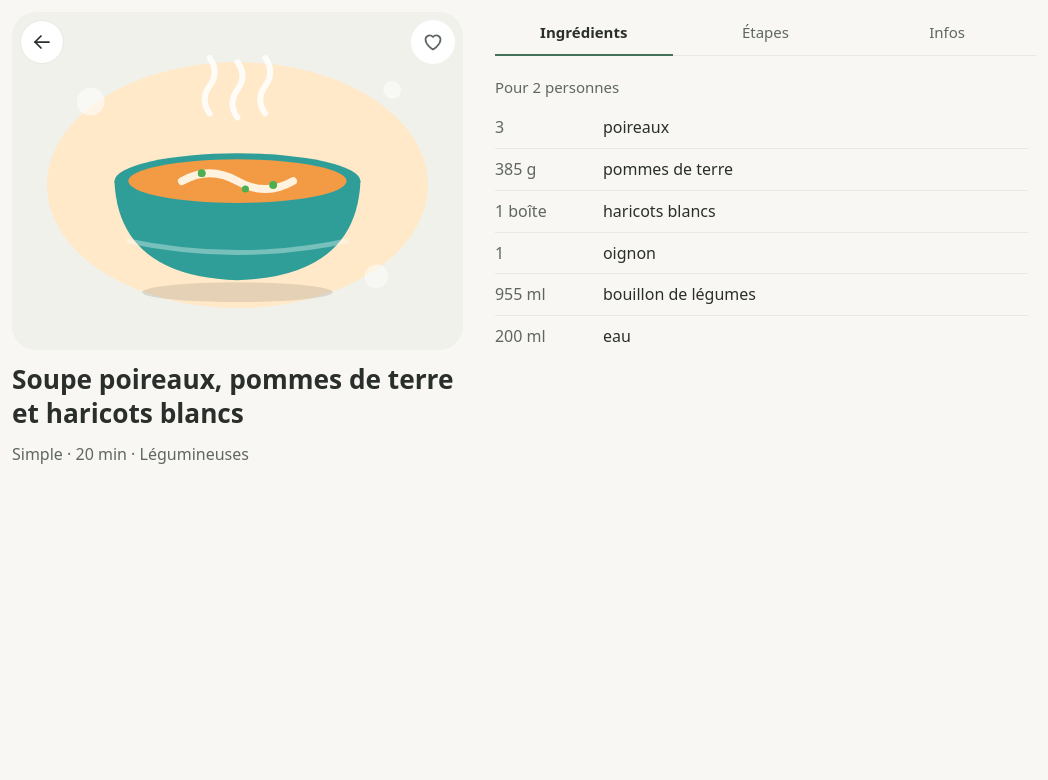
Test case: <RecipePage /> › détail d’un plat du menu : portions, étapes, allergènes, kcal repliées, favori
The width and height of the screenshot is (1048, 780).
Expected: the heading "Soupe poireaux, pommes de terre et haricots blancs" is shown, [12,362,463,430]
Expected: the text "Pour 2 personnes" is shown, [495,77,619,97]
Click the tab "Étapes": (765, 34) [677,12,854,56]
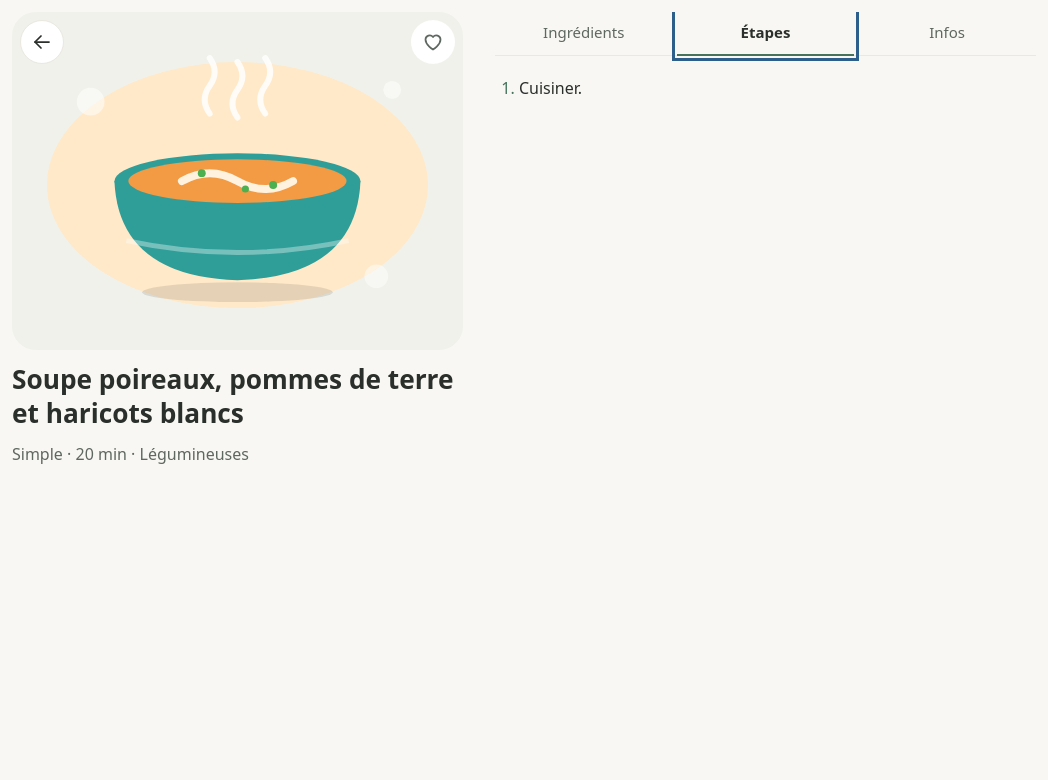
Result: the number of list items is 1 at [519,77,582,99]
Click the tab "Infos": (947, 34) [858,12,1036,56]
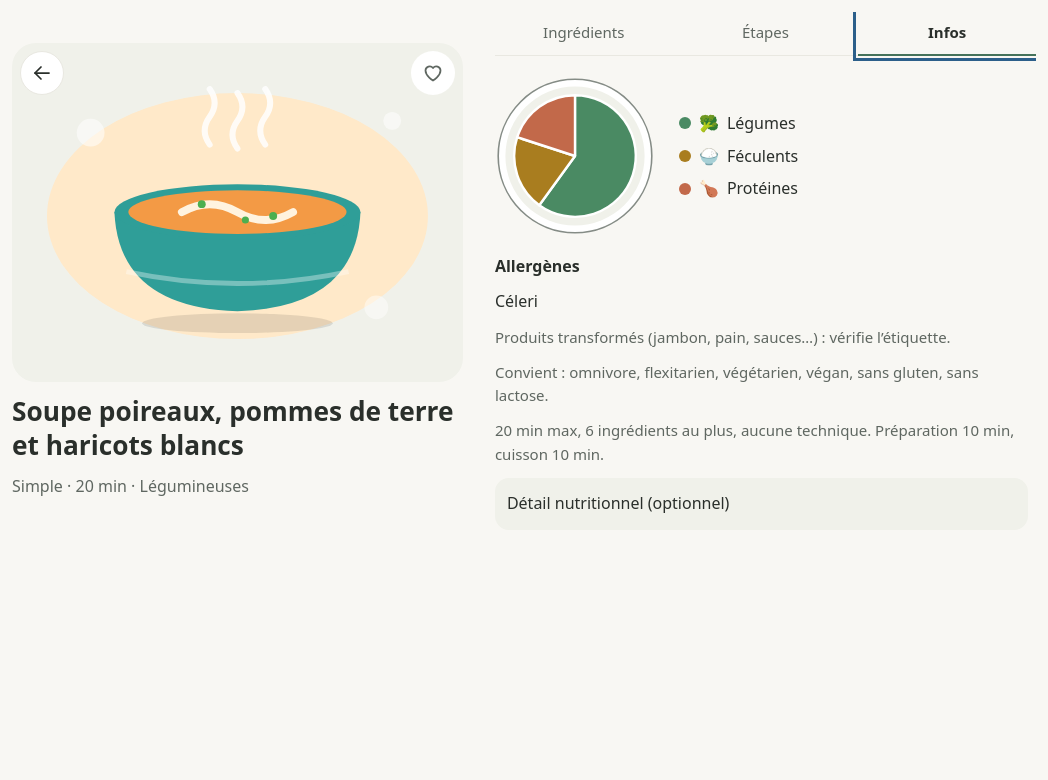
Result: the list item "Légumes" is shown at [727,112,796,134]
Result: the heading "Allergènes" is shown at [495,255,580,277]
Result: the text "Produits transformés (jambon, pain, sauces…) : vérifie l’étiquette." is shown at [495,326,1028,349]
Click the button named "Ajouter aux favoris": (433, 73) [411,51,455,95]
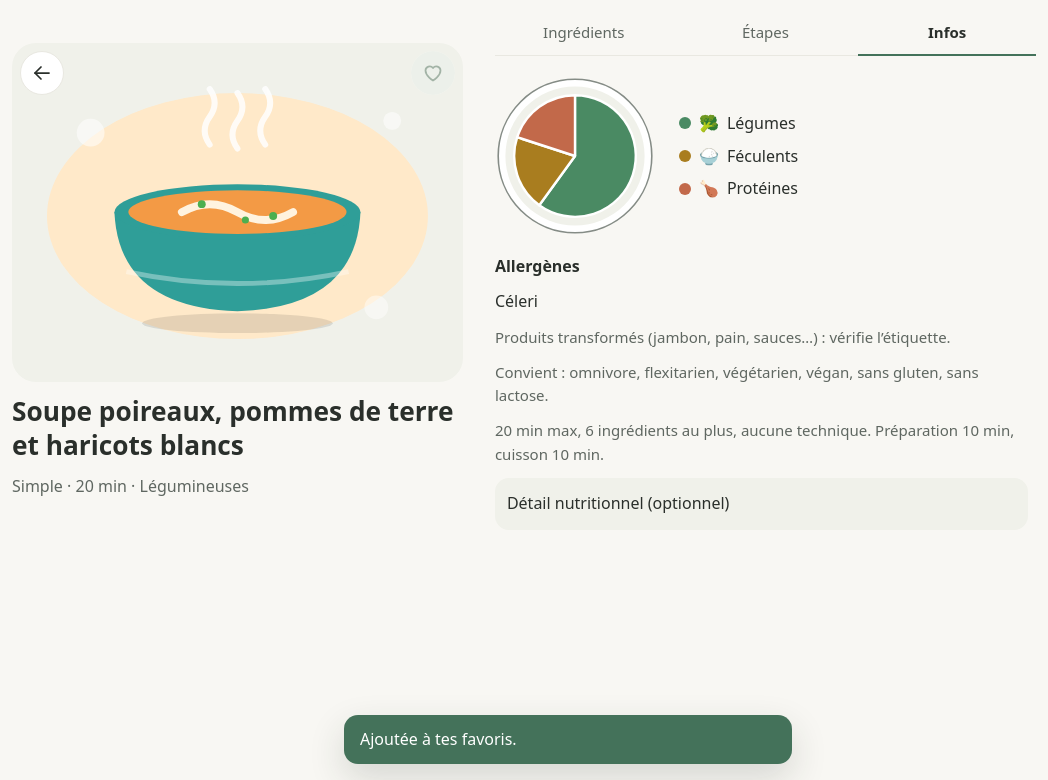
Result: the button named "Dans tes favoris" is disabled at [411,51,455,95]
